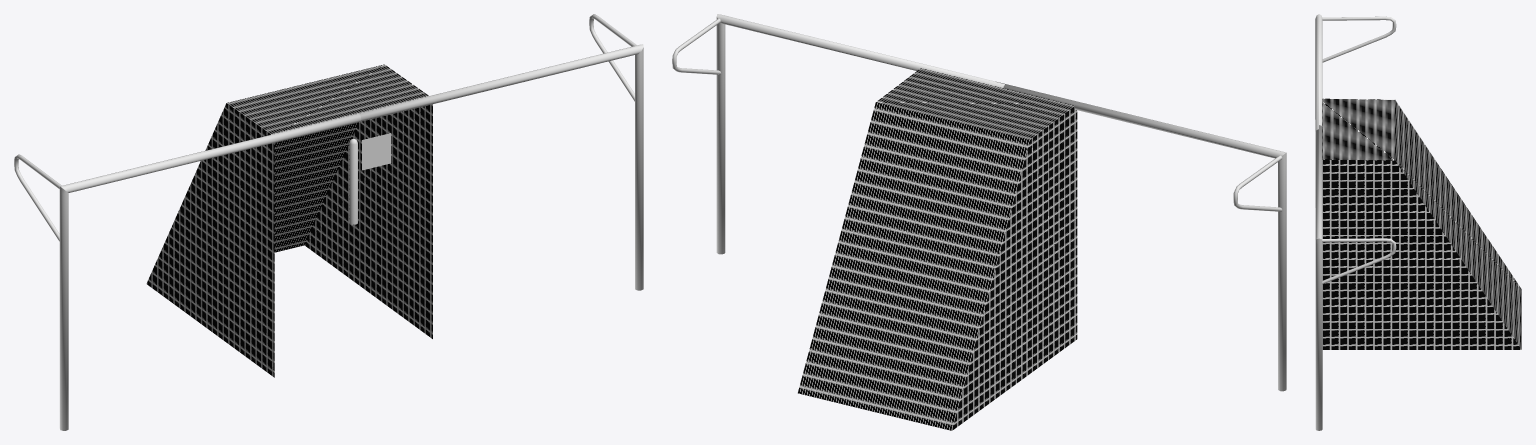
The model's file is goal.glb.
3 renders of one model, left to right at view 1: azimuth 30°, elevation 25°; view 2: azimuth 150°, elevation 25°; view 3: azimuth 270°, elevation 25°, orthographic. The views are drawn at different scales.
Visible parts, largest first — view 1: net, goal-left, goal-right, flag, flag-pole; view 2: net, goal-right, goal-left; view 3: net, goal-right, goal-left.
Part boxes in pixels (<box>): net: <box>146,64,432,377</box>; goal-left: <box>14,113,361,430</box>; goal-right: <box>347,14,643,290</box>; flag: <box>362,133,391,170</box>; flag-pole: <box>349,138,357,224</box>; net: <box>798,68,1077,430</box>; goal-right: <box>672,14,1004,254</box>; goal-left: <box>995,81,1286,391</box>; net: <box>1322,98,1521,349</box>; goal-right: <box>1315,125,1396,430</box>; goal-left: <box>1315,14,1396,207</box>.
Bounding box in the file's own units: 7.37 × 2.94 × 2.86.
Materials: 2 (1 with a texture image).
